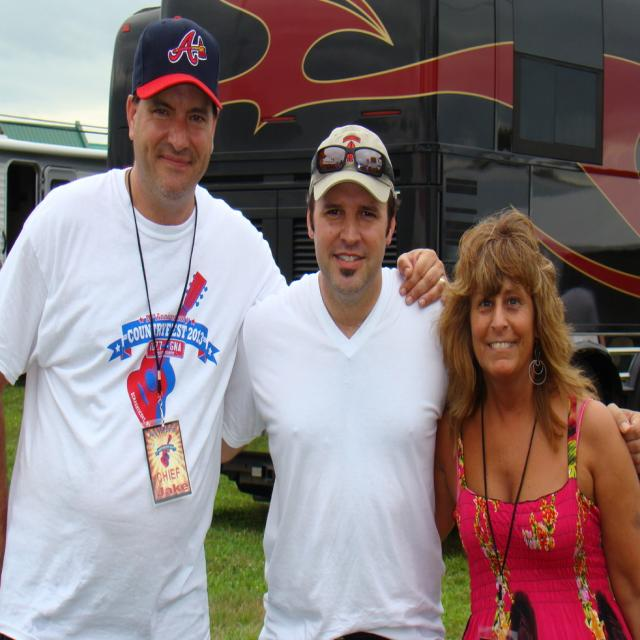Glasses: (307, 142, 397, 187)
